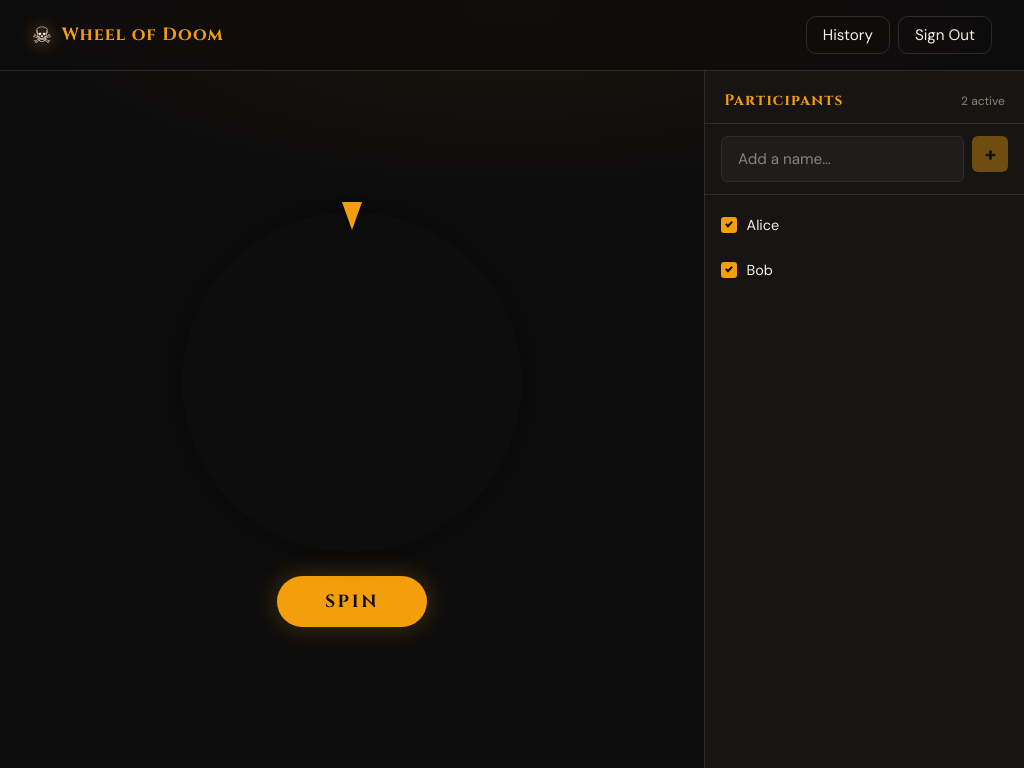
MainPage › loads participants and toggles history view
Expected: the text "Alice" is shown, [747,216,779,234]
Expected: the text "Bob" is shown, [747,261,773,279]
Click the button "History": (848, 35) [806,16,890,54]
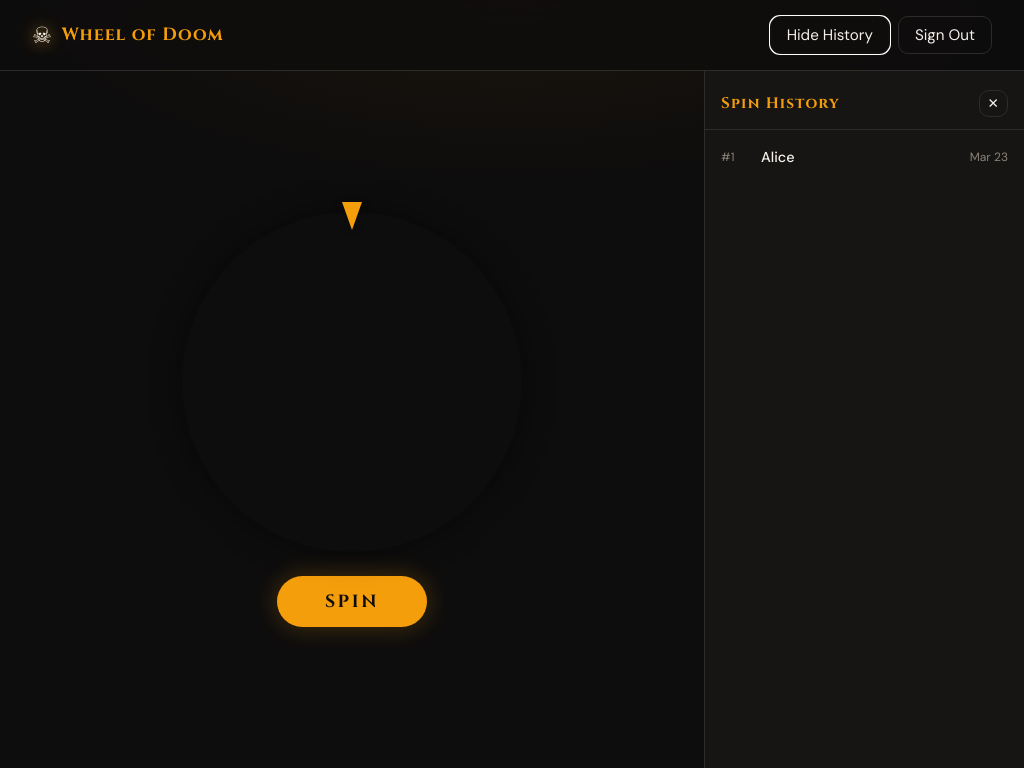
Now the element with test id "spin-history" is shown, box [705,71,1023,166]
Now the heading "Spin History" is shown, box [721,93,840,114]
Click the button "✕": (993, 104) [979,90,1008,117]
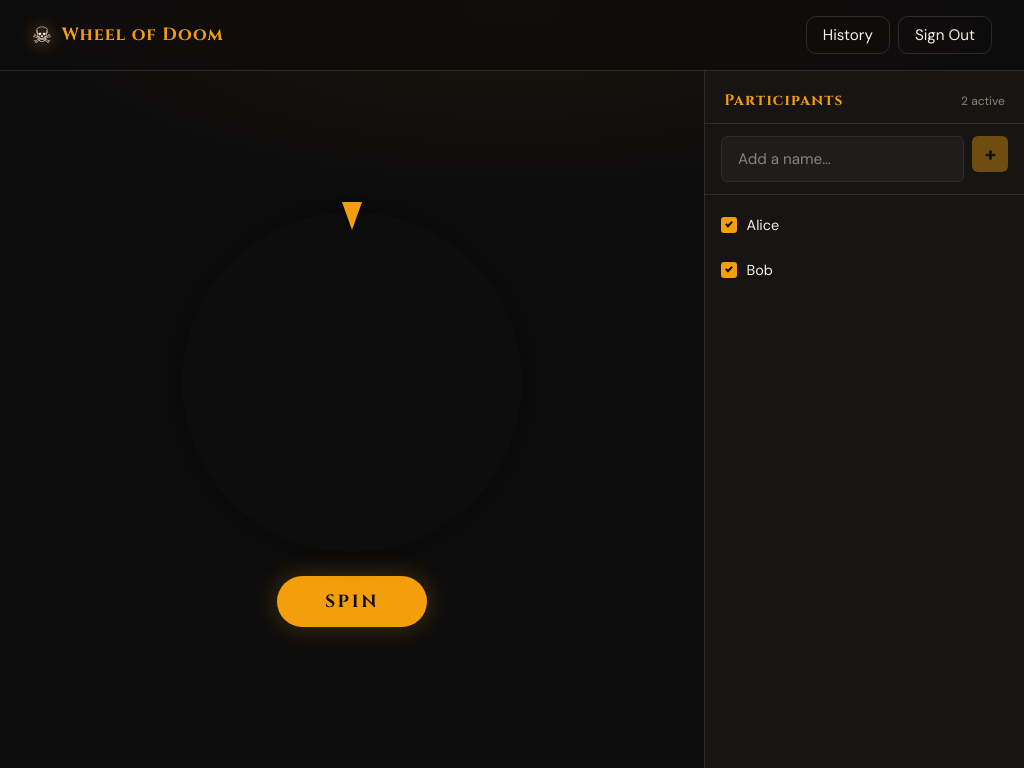
Now the element with test id "participant-list" is shown, box [705,71,1023,279]
